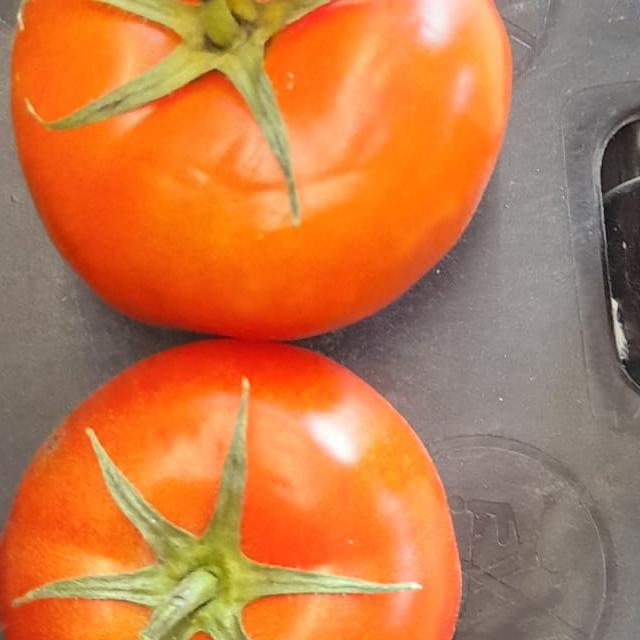tomato: (3, 0, 513, 343), (0, 323, 523, 640)
